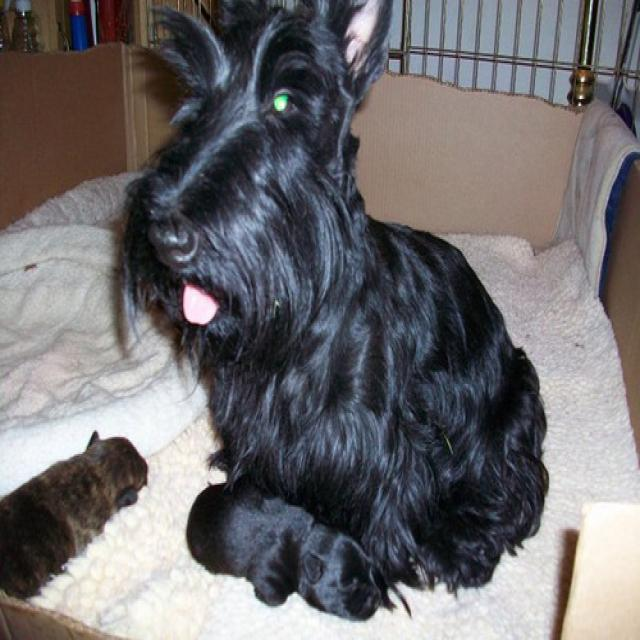dog-scottish_terrier: (113, 2, 557, 628)
